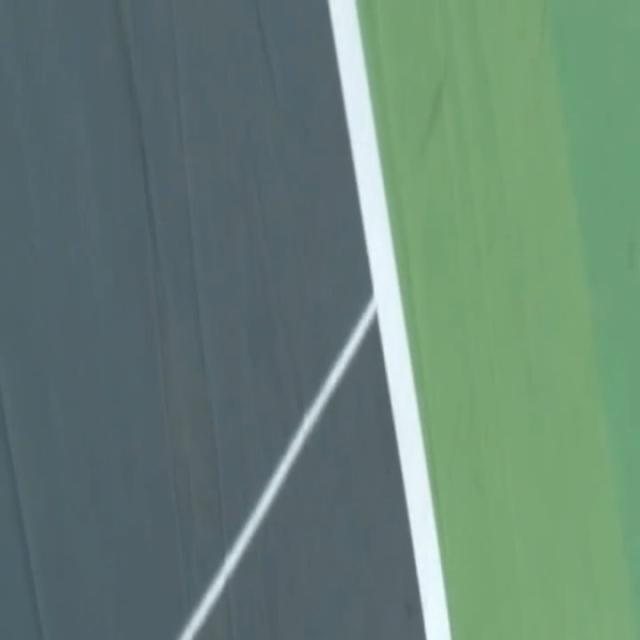right: (328, 0, 450, 639)
